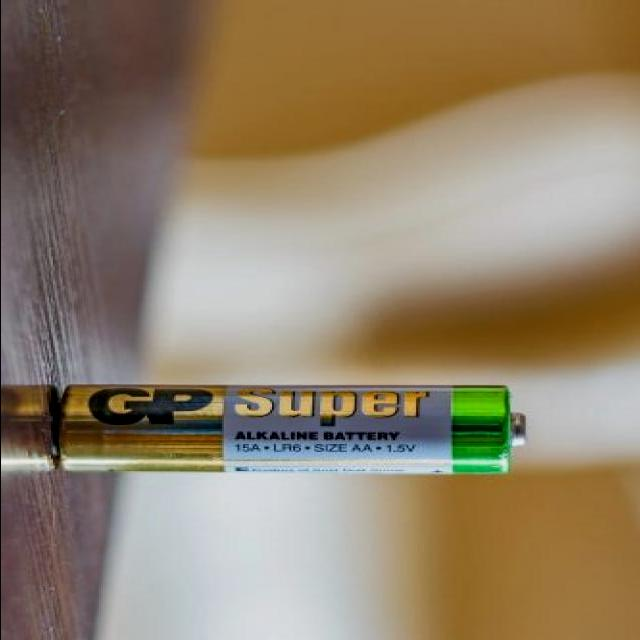AAA: (52, 382, 530, 475)
